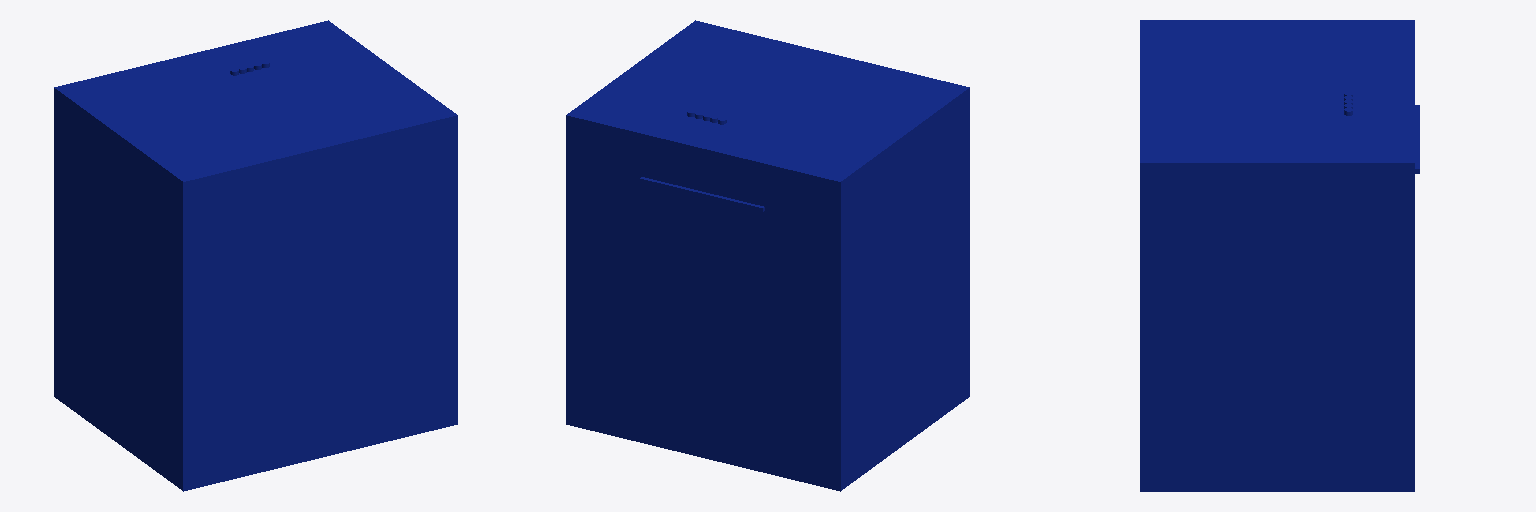
The robot description file, URDF, robot "block":
<robot name="block">
  <link name="block_base_link">
    <contact>
      <lateral_friction value="0.2"/>
      <rolling_friction value="0.001"/>
      <contact_cfm value="0.0"/>
      <contact_erp value="1.0"/>
    </contact>
    <inertial>
      <origin rpy="0 0 0" xyz="0 0 0"/>
      <mass value="0.05"/>
      <inertia ixx="0" ixy="0" ixz="0" iyy="0" iyz="0" izz="0"/>
    </inertial>
    <visual>
      <origin rpy="0 0 0" xyz="0 0 0"/>
      <geometry>
        <mesh filename="1.obj" scale="1 1 1"/>
      </geometry>
      <material name="tray_material">
        <color rgba="0.1 0.2 0.6 1"/>
      </material>
    </visual>
    <collision>
      <origin rpy="0 0 0" xyz="0 0 0"/>
      <geometry>
        <mesh filename="1.obj" scale="1 1 1"/>
      </geometry>
    </collision>
  </link>
</robot>

--- Render facts (derived) ---
3 views of the same robot in one strip: view 1: azimuth 30°, elevation 25°; view 2: azimuth 150°, elevation 25°; view 3: azimuth 270°, elevation 25° (orthographic).
Robot: block — 1 links, 0 joints (none); root link block_base_link; default pose: every joint at zero.
Links seen in each view (by area): view 1: block_base_link; view 2: block_base_link; view 3: block_base_link.
Link boxes in pixels (bbox=[...]): block_base_link: bbox=[54, 20, 457, 491]; block_base_link: bbox=[566, 20, 969, 491]; block_base_link: bbox=[1140, 20, 1419, 491].
Size in the robot's own frame: 0.0391 by 0.0325 by 0.0427 metres.
1 mesh visuals loaded from 1 distinct referenced files (1 OBJ).